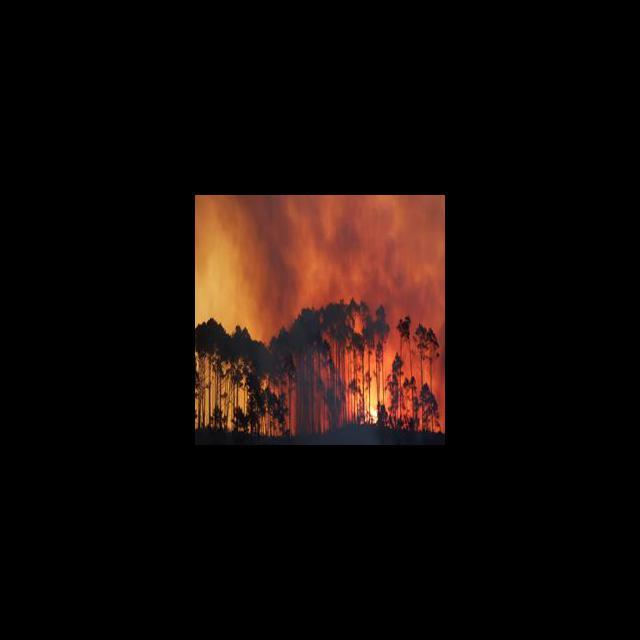Fire: (368, 402, 379, 424)
